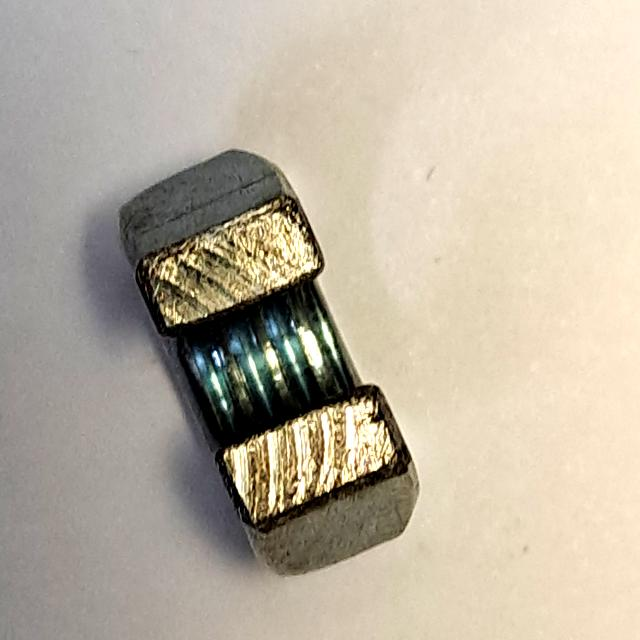Side-Fracture: (111, 134, 433, 589)
